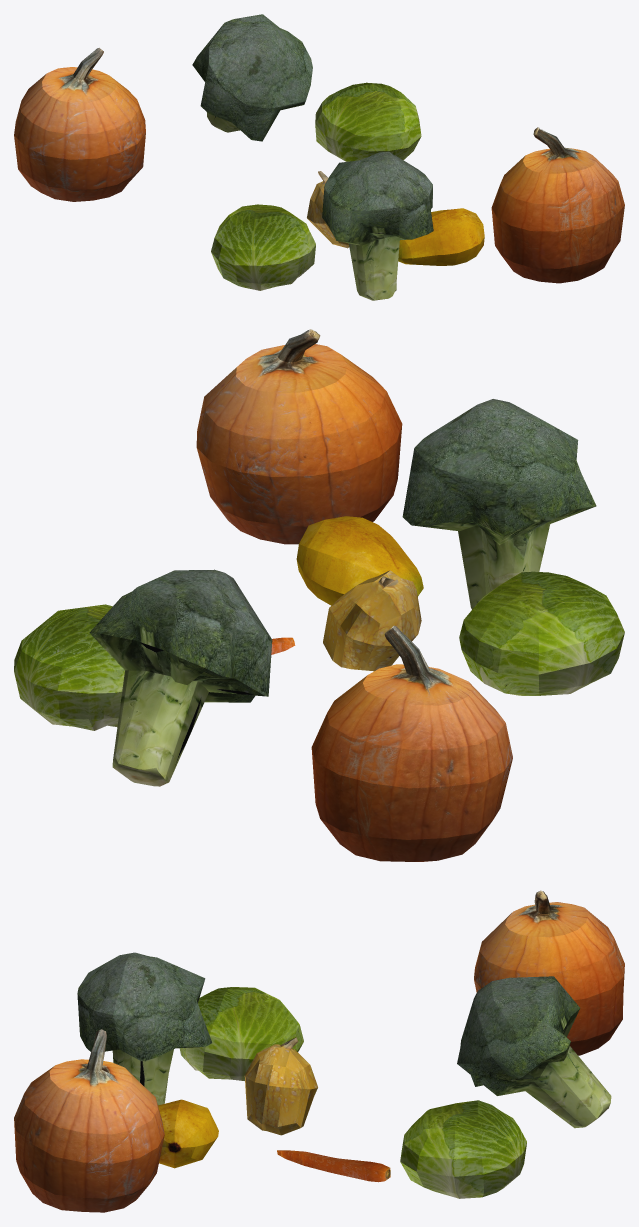
File: veg.fbx
The picture shows the model from 3 angles, top to bottom: view 1: azimuth 30°, elevation 25°; view 2: azimuth 150°, elevation 25°; view 3: azimuth 270°, elevation 25°; orthographic projection. The views are drawn at different scales.
Parts seen in each view (by area): view 1: Pumpkin1, Pumpkin2, Broccoli1, Broccoli2, Cabbage1, Cabbage2, Mango1, Gourd1; view 2: Pumpkin2, Pumpkin1, Broccoli2, Broccoli1, Cabbage1, Cabbage2, Mango1, Gourd1; view 3: Pumpkin1, Broccoli2, Pumpkin2, Broccoli1, Cabbage2, Cabbage1, Gourd1, Mango1, Carrot1.
Boxes of the visible parts, bbox=[...] form: Pumpkin1: bbox=[491, 127, 624, 283]; Pumpkin2: bbox=[14, 47, 145, 201]; Broccoli1: bbox=[322, 151, 433, 300]; Broccoli2: bbox=[192, 14, 312, 141]; Cabbage1: bbox=[211, 204, 315, 290]; Cabbage2: bbox=[315, 82, 421, 161]; Mango1: bbox=[398, 208, 484, 265]; Gourd1: bbox=[307, 171, 349, 248]; Pumpkin2: bbox=[311, 625, 512, 861]; Pumpkin1: bbox=[196, 329, 402, 544]; Broccoli2: bbox=[89, 569, 272, 786]; Broccoli1: bbox=[402, 399, 596, 609]; Cabbage1: bbox=[459, 571, 624, 695]; Cabbage2: bbox=[14, 604, 124, 730]; Mango1: bbox=[296, 516, 423, 605]; Gourd1: bbox=[323, 570, 421, 671]; Pumpkin1: bbox=[14, 1029, 164, 1212]; Broccoli2: bbox=[457, 976, 611, 1128]; Pumpkin2: bbox=[474, 890, 624, 1055]; Broccoli1: bbox=[77, 952, 212, 1105]; Cabbage2: bbox=[400, 1100, 526, 1198]; Cabbage1: bbox=[179, 987, 303, 1080]; Gourd1: bbox=[244, 1037, 317, 1135]; Mango1: bbox=[158, 1099, 218, 1168]; Carrot1: bbox=[277, 1150, 390, 1182].
Size of the model in its own units: 23.19 by 8.13 by 27.13.
6 materials, 6 textured.
